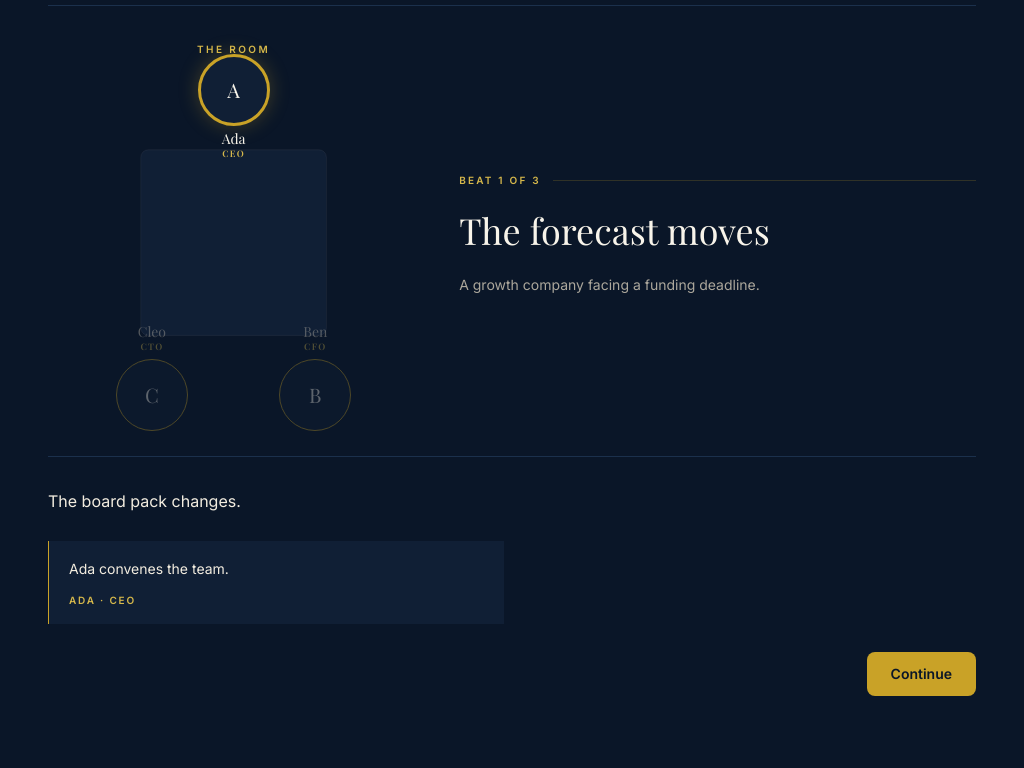
ScenarioPage › reveals three beats in order before presenting the options
The image size is (1024, 768).
(page scrolled)
Check: the heading "The forecast moves" is shown, box [459,206,770,254]
Check: the text "Accept the terms" is not shown
Click the button "Continue": (921, 674) [867,652,976,696]
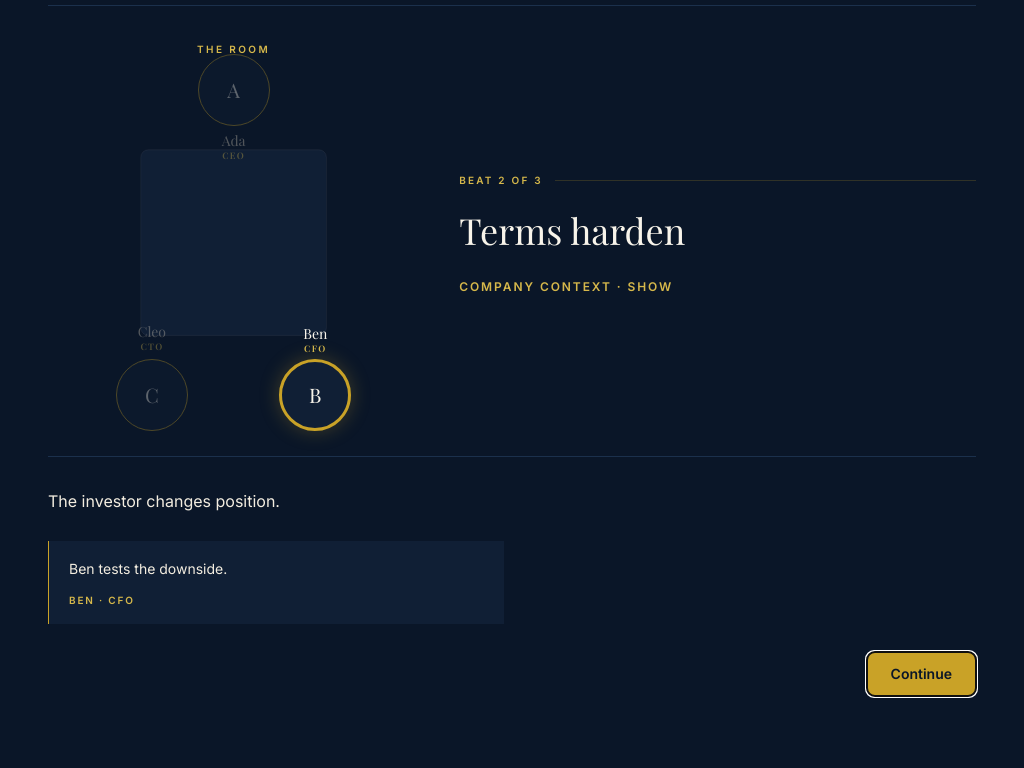
Check: the heading "Terms harden" is shown, box [459,206,685,254]
Click the button "Continue": (921, 674) [867,652,976,696]
(page scrolled)
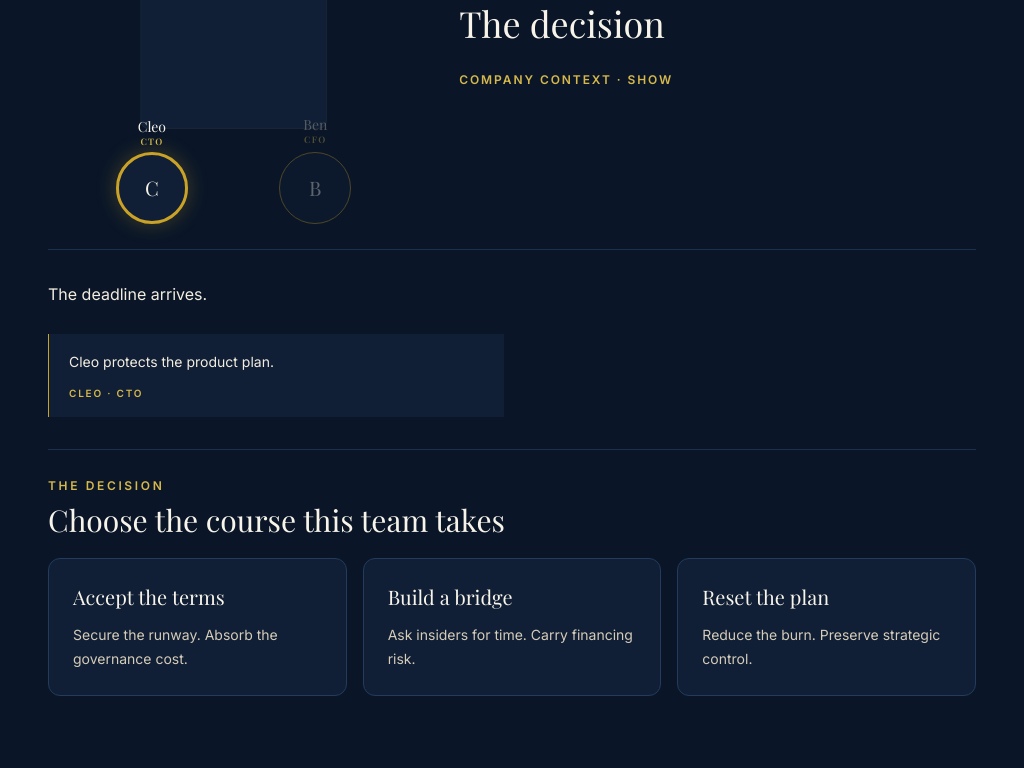
Check: the heading "The decision" is shown, box [459,0,665,47]
Check: the button "Accept the terms" is shown, box [48,558,347,696]
Check: the button "Build a bridge Ask insiders for time. Carry financing risk." is shown, box [363,558,661,696]
